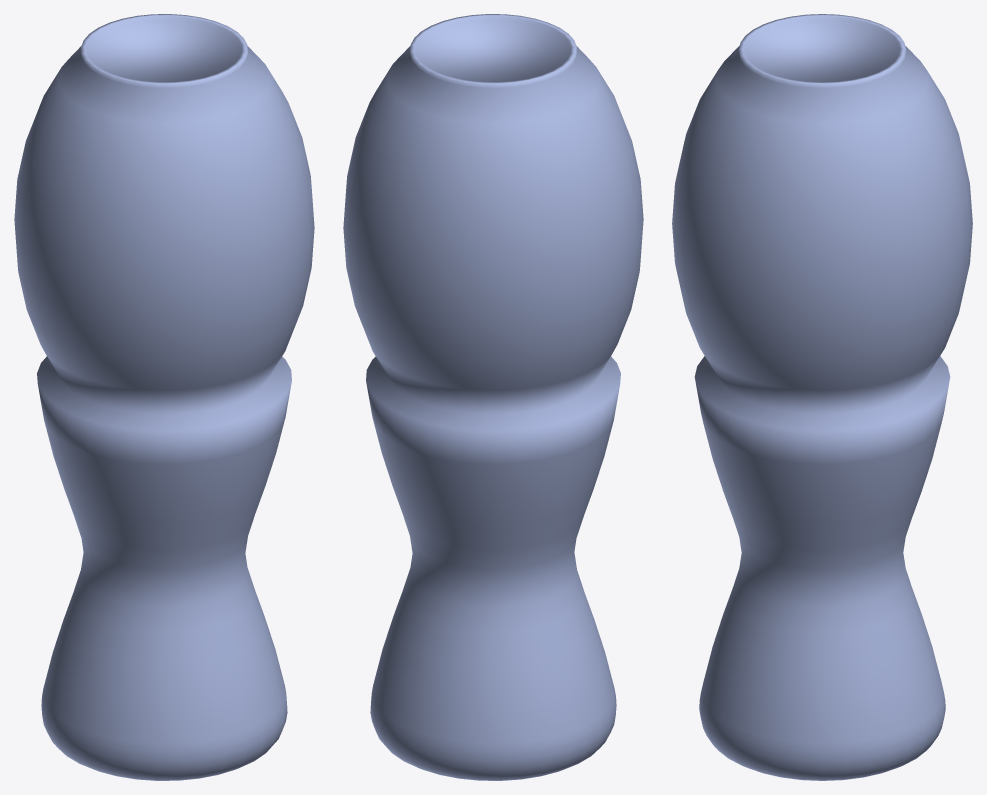
The model's file is Printer_Handle.fbx.
3 views of the same model, side by side, from view 1: azimuth 30°, elevation 25°; view 2: azimuth 150°, elevation 25°; view 3: azimuth 270°, elevation 25° (orthographic).
Parts seen in each view (by area): view 1: Handle; view 2: Handle; view 3: Handle.
Boxes of the visible parts, x1,y1,x2,y2 form: Handle: (14,14,314,780); Handle: (343,14,643,780); Handle: (672,14,972,780).
Bounding box in the file's own units: 200 × 508 × 200.
